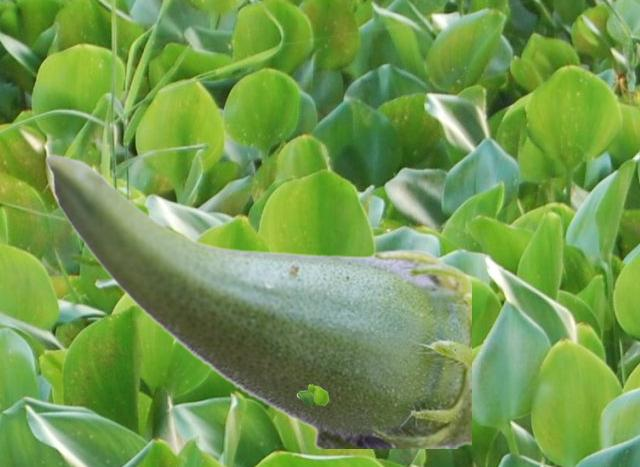okra: (44, 153, 470, 447)
